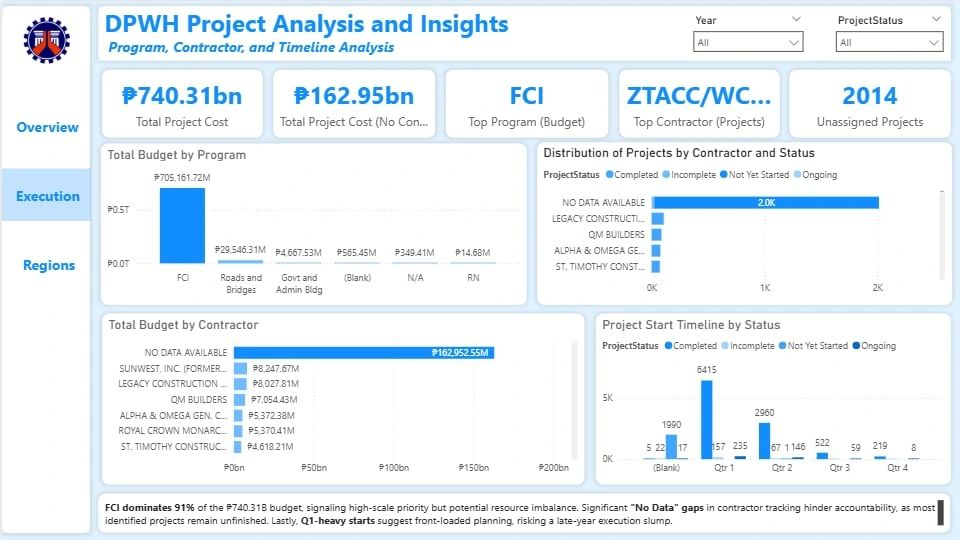

What the dashboard file says about the page in this screenshot:
{"tool":"powerbi","page":{"name":"CONTRACTOR","canvas":[1280,720],"ordinal":1},"visuals":[{"type":"shape","box":[128.1,7.1,1137.3,73],"z":0},{"type":"shape","box":[0,7.1,117.5,703],"z":1000},{"type":"image","box":[25,21.7,70,61.7],"z":2000},{"type":"textbox","box":[64.1,1.8,685.2,62.3],"z":3000},{"type":"textbox","box":[131.7,42.7,432.5,53.4],"z":4000},{"type":"card","fields":{"Values":["Projects.Total Project Cost (No Contractor)"]},"box":[362,91.3,216,90],"z":5000},{"type":"textbox","box":[10.7,149.5,101.4,39.2],"z":6000},{"type":"card","fields":{"Values":["Sum(GovtProjects.ProjectCost)"]},"box":[134,91.3,214,90],"z":7000},{"type":"card","fields":{"Values":["Projects.Top Contractor (Projects)"]},"box":[823.3,91.7,213.3,90],"z":8000},{"type":"card","fields":{"Values":["Projects.Top Program (Budget)"]},"box":[592,91.3,216.7,90],"z":9000},{"type":"card","fields":{"Values":["Projects.No Contractor Data"]},"box":[1050,91.3,215,90],"z":10000},{"type":"shape","box":[0,224,118,70],"z":11000},{"type":"clusteredColumnChart","title":"Total Budget by Program","fields":{"Category":["Projects.ProgramAbbrev"],"Y":["Sum(Projects.ProjectCost)"]},"box":[131.7,190,568.3,215],"z":12000},{"type":"textbox","box":[3.6,240.9,115.7,40.9],"z":13000},{"type":"textbox","box":[12.5,334,101.4,39.2],"z":14000},{"type":"clusteredBarChart","title":"Total Budget by Contractor","fields":{"Y":["Sum(Projects.ProjectCost)"],"Category":["Projects.ContractorName"]},"box":[133.3,416.7,643.3,228.3],"z":15000},{"type":"barChart","title":"Distribution of Projects by Contractor and Status","fields":{"Category":["Projects.ContractorName"],"Y":["CountNonNull(Projects.ProjectID)"],"Series":["Projects.ProjectStatus"]},"box":[713.3,188.3,553.3,216.7],"z":16000},{"type":"textbox","box":[128,656,1136,52],"z":17000},{"type":"clusteredColumnChart","title":"Project Start Timeline by Status","fields":{"Category":["Projects.PlannedStartDate.Variation.Date Hierarchy.Year","Projects.PlannedStartDate.Variation.Date Hierarchy.Quarter","Projects.PlannedStartDate.Variation.Date Hierarchy.Month","Projects.PlannedStartDate.Variation.Date Hierarchy.Day"],"Y":["CountNonNull(Projects.ProgramID)"],"Series":["Projects.ProjectStatus"]},"box":[791.7,416.7,473.3,228.3],"z":18000},{"type":"slicer","fields":{"Values":["Projects.PlannedStartDate.Variation.Date Hierarchy.Year"]},"box":[911.7,11.7,166.7,68.3],"z":18001},{"type":"slicer","fields":{"Values":["Projects.ProjectStatus"]},"box":[1101.7,11.7,163.3,68.3],"z":18002}]}

Visuals, with their boxes in screenshot pixels (x1, y1, x2, y2), scaled from the page's 1280x720 canvas onto the 960x540 screenshot:
shape: left=96, top=5, right=949, bottom=60
shape: left=0, top=5, right=88, bottom=533
image: left=19, top=16, right=71, bottom=63
textbox: left=48, top=1, right=562, bottom=48
textbox: left=99, top=32, right=423, bottom=72
card - Projects.Total Project Cost (No Contractor): left=272, top=68, right=434, bottom=136
textbox: left=8, top=112, right=84, bottom=142
card - Sum(GovtProjects.ProjectCost): left=100, top=68, right=261, bottom=136
card - Projects.Top Contractor (Projects): left=617, top=69, right=777, bottom=136
card - Projects.Top Program (Budget): left=444, top=68, right=607, bottom=136
card - Projects.No Contractor Data: left=788, top=68, right=949, bottom=136
shape: left=0, top=168, right=88, bottom=220
"Total Budget by Program" clusteredColumnChart: left=99, top=142, right=525, bottom=304
textbox: left=3, top=181, right=89, bottom=211
textbox: left=9, top=250, right=85, bottom=280
"Total Budget by Contractor" clusteredBarChart: left=100, top=313, right=582, bottom=484
"Distribution of Projects by Contractor and Status" barChart: left=535, top=141, right=950, bottom=304
textbox: left=96, top=492, right=948, bottom=531
"Project Start Timeline by Status" clusteredColumnChart: left=594, top=313, right=949, bottom=484
slicer - Projects.PlannedStartDate.Variation.Date Hierarchy.Year: left=684, top=9, right=809, bottom=60
slicer - Projects.ProjectStatus: left=826, top=9, right=949, bottom=60
